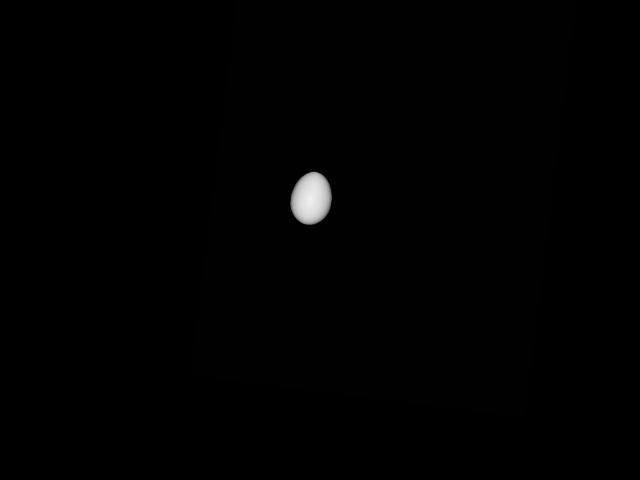egg: (288, 169, 335, 227)
